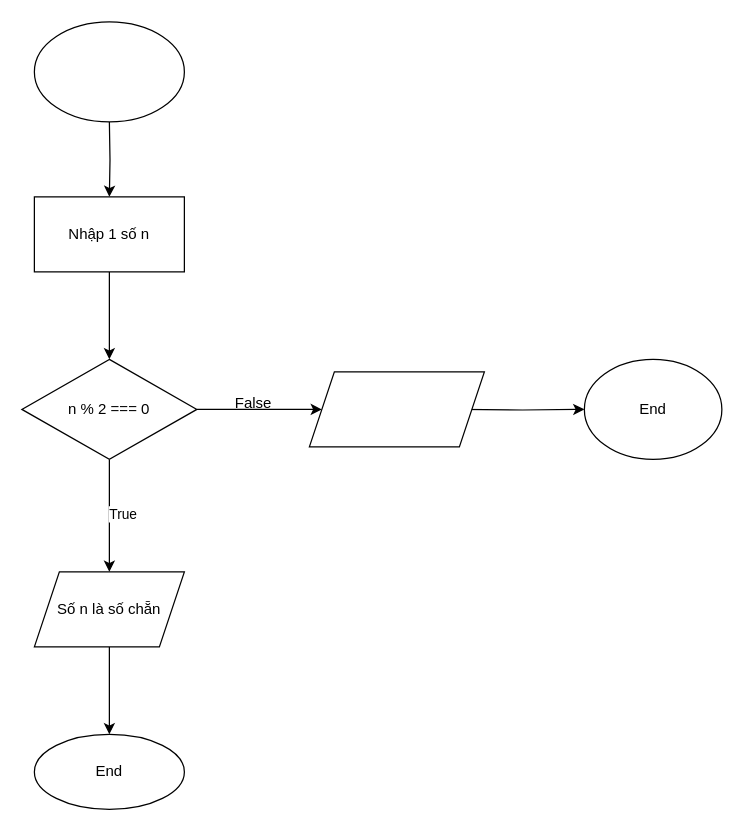
This 744x831 diagram has some shape labels left out. Here are the shapes that lost their labels. From the top down, the centre of each, then its label:
At [108,71]: "Start".
At [396,409]: "Số n không phải là số chẵn".
